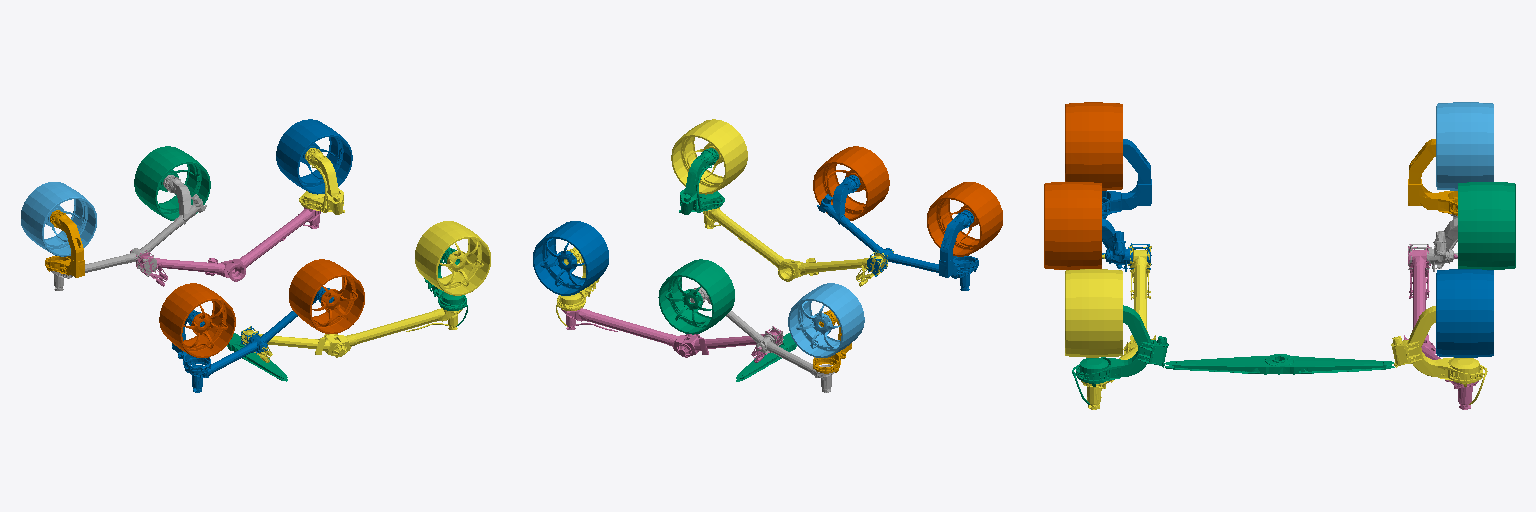
URDF robot description (Perseverance):
<?xml version="1.0" ?>
<!-- This file was generated automatically. [2021_08_18_14_10_08] -->
<!-- [Tool url: [email redacted]:CR/rst.git, branch: dev/working, commit_hash: 47e8686b, commit_time: 2021-08-16 19:00:50 -0700] -->

<robot name="Perseverance">
	<link name="ground"/>

	<link name="Body_Chassis">
		<inertial>
			<origin xyz="0.09002 0 -1.13338" rpy="0 -0 0"/>
			<mass value="0"/>
			<inertia ixx="0" ixy="0" ixz="0" iyy="0" iyz="0" izz="0"/>
		</inertial>
		<visual name="VisGeom_CHASSIS">
			<origin xyz="0.09002 0 -1.13338" rpy="0 -0 0"/>
			<geometry>
				<mesh filename="package://osr_description/meshes/CHASSIS.stl" scale="1 1 1"/>
			</geometry>
		</visual>
	</link>
	<joint name="chasis_joint" type="fixed">
		<origin xyz="0 0 0" rpy="0 -0 0"/>
		<parent link="ground"/>
		<child link="Body_Chassis"/>
	</joint>


	<!-- Rover Left Side Traction -->
	<link name="Body_Differential">
		<inertial>
			<origin xyz="0.142 0 0" rpy="0 -0 0"/>
			<mass value="0"/>
			<inertia ixx="0" ixy="0" ixz="0" iyy="0" iyz="0" izz="0"/>
		</inertial>
		<visual name="VisGeom_CenterDifferential">
			<origin xyz="0.142 0 0" rpy="0 0 0"/>
			<geometry>
				<mesh filename="package://osr_description/meshes/CenterDifferential.stl" scale="1 1 1"/>
			</geometry>
		</visual>
	</link>
	<joint name="CENTER_DIFFERENTIAL" type="revolute">
		<origin xyz="-0.05198 0 -1.13338" rpy="0 -0 0"/>
		<parent link="Body_Chassis"/>
		<child link="Body_Differential"/>
		<axis xyz="0 0 1"/>
		<limit lower="-1.79769e+308" upper="1.79769e+308" effort="1.79769e+308" velocity="1.79769e+308"/>
	</joint>

	<link name="Body_RockerLeft">
		<inertial>
			<origin xyz="-0.214 0.79959 -0.2405" rpy="0 -0 0"/>
			<mass value="0"/>
			<inertia ixx="0" ixy="0" ixz="0" iyy="0" iyz="0" izz="0"/>
		</inertial>
		<visual name="VisGeom_Left_Rocker">
			<origin xyz="-0.214 0.79959 -0.2405" rpy="0 0 0"/>
			<geometry>
				<mesh filename="package://osr_description/meshes/Left_Rocker.stl" scale="1 1 1"/>
			</geometry>
		</visual>
	</link>
	<joint name="LEFT_DIFFERENTIAL" type="revolute">
		<origin xyz="0.30402 -0.79959 -0.89288" rpy="0 -0 0"/>
		<parent link="Body_Chassis"/>
		<child link="Body_RockerLeft"/>
		<axis xyz="0 1 0"/>
		<limit lower="-1.79769e+308" upper="1.79769e+308" effort="1.79769e+308" velocity="1.79769e+308"/>
	</joint>

	<link name="Body_BogieLeft">
		<inertial>
			<origin xyz="0.54 0.91959 -0.4705" rpy="0 -0 0"/>
			<mass value="0"/>
			<inertia ixx="0" ixy="0" ixz="0" iyy="0" iyz="0" izz="0"/>
		</inertial>
		<visual name="VisGeom_Left_Bogie">
			<origin xyz="0.54 0.91959 -0.4705" rpy="0 0 0"/>
			<geometry>
				<mesh filename="package://osr_description/meshes/Left_Bogie.stl" scale="1 1 1"/>
			</geometry>
		</visual>
	</link>
	<joint name="LEFT_BOGIE" type="revolute">
		<origin xyz="-0.754 -0.12 0.23" rpy="0 -0 0"/>
		<parent link="Body_RockerLeft"/>
		<child link="Body_BogieLeft"/>
		<axis xyz="0 1 0"/>
		<limit lower="-1.79769e+308" upper="1.79769e+308" effort="1.79769e+308" velocity="1.79769e+308"/>
	</joint>

	<!-- Left Middle Wheel Assembly (Attached to Body_BogieLeft) -->
	<link name="Body_WheelLeftMiddle">
		<inertial>
			<origin xyz="0.09002 1.1845 -0.8705" rpy="0 -0 0"/>
			<mass value="0"/>
			<inertia ixx="0" ixy="0" ixz="0" iyy="0" iyz="0" izz="0"/>
		</inertial>
		<visual name="VisGeom_Wheel_LeftMiddle">
			<origin xyz="0.09002 1.1845 -0.8705" rpy="0 -0 0"/>
			<geometry>
				<mesh filename="package://osr_description/meshes/Wheel_LeftMiddle.stl" scale="1 1 1"/>
			</geometry>
		</visual>
	</link>
	<joint name="LM_DRIVE" type="revolute">
		<origin xyz="0.44998 -0.26491 0.4" rpy="0 -0 0"/>
		<parent link="Body_BogieLeft"/>
		<child link="Body_WheelLeftMiddle"/>
		<axis xyz="0 -1 0"/>
		<limit lower="-1.79769e+308" upper="1.79769e+308" effort="1.79769e+308" velocity="1.79769e+308"/>
	</joint>

	<link name="Frame_WHEEL_LF">
		<inertial>
			<origin xyz="0 0 0" rpy="0 -0 0"/>
			<mass value="0"/>
			<inertia ixx="0" ixy="0" ixz="0" iyy="0" iyz="0" izz="0"/>
		</inertial>
	</link>
	<joint name="Joint_for_Frame_WHEEL_LF" type="fixed">
		<origin xyz="0 0 0" rpy="0 -0 0"/>
		<parent link="Body_WheelLeftFront"/>
		<child link="Frame_WHEEL_LF"/>
	</joint>

	<link name="Frame_WHEEL_LM">
		<inertial>
			<origin xyz="0 0 0" rpy="0 -0 0"/>
			<mass value="0"/>
			<inertia ixx="0" ixy="0" ixz="0" iyy="0" iyz="0" izz="0"/>
		</inertial>
	</link>
	<joint name="Joint_for_Frame_WHEEL_LM" type="fixed">
		<origin xyz="0 0 0" rpy="0 -0 0"/>
		<parent link="Body_WheelLeftMiddle"/>
		<child link="Frame_WHEEL_LM"/>
	</joint>

	<link name="Frame_WHEEL_LR">
		<inertial>
			<origin xyz="0 0 0" rpy="0 -0 0"/>
			<mass value="0"/>
			<inertia ixx="0" ixy="0" ixz="0" iyy="0" iyz="0" izz="0"/>
		</inertial>
	</link>
	<joint name="Joint_for_Frame_WHEEL_LR" type="fixed">
		<origin xyz="0 0 0" rpy="0 -0 0"/>
		<parent link="Body_WheelLeftRear"/>
		<child link="Frame_WHEEL_LR"/>
	</joint>

	<link name="Frame_STEER_LR">
		<inertial>
			<origin xyz="0 0 0" rpy="0 -0 0"/>
			<mass value="0"/>
			<inertia ixx="0" ixy="0" ixz="0" iyy="0" iyz="0" izz="0"/>
		</inertial>
	</link>
	<joint name="Joint_for_Frame_STEER_LR" type="fixed">
		<origin xyz="0 0 0" rpy="0 -0 0"/>
		<parent link="Body_SteerLeftRear"/>
		<child link="Frame_STEER_LR"/>
	</joint>

	<!-- Left Front Steering Wheel Assembly (Attached to Body_RockerLeft) -->
	<link name="Body_SteerLeftFront">
		<inertial>
			<origin xyz="-1.095 1.0625 -0.8705" rpy="0 -0 0"/>
			<mass value="0"/>
			<inertia ixx="0" ixy="0" ixz="0" iyy="0" iyz="0" izz="0"/>
		</inertial>
		<visual name="VisGeom_Steer_LeftFront">
			<origin xyz="-1.095 1.0625 -0.8705" rpy="0 -0 0"/>
			<geometry>
				<mesh filename="package://osr_description/meshes/Steer_LeftFront.stl" scale="1 1 1"/>
			</geometry>
		</visual>
	</link>
	<joint name="LF_STEER" type="revolute">
		<origin xyz="0.881 -0.26291 0.63" rpy="0 -0 0"/>
		<parent link="Body_RockerLeft"/>
		<child link="Body_SteerLeftFront"/>
		<axis xyz="0 0 1"/>
		<limit lower="-1.79769e+308" upper="1.79769e+308" effort="1.79769e+308" velocity="1.79769e+308"/>
	</joint>	

	<link name="Body_WheelLeftFront">
		<inertial>
			<origin xyz="-1.095 1.0625 -0.8705" rpy="0 -0 0"/>
			<mass value="0"/>
			<inertia ixx="0" ixy="0" ixz="0" iyy="0" iyz="0" izz="0"/>
		</inertial>
		<visual name="VisGeom_Wheel_LeftFront">
			<origin xyz="-1.095 1.0625 -0.8705" rpy="0 -0 0"/>
			<geometry>
				<mesh filename="package://osr_description/meshes/Wheel_LeftFront.stl" scale="1 1 1"/>
			</geometry>
		</visual>
	</link>
	<joint name="LF_DRIVE" type="revolute">
		<origin xyz="0 0 0" rpy="0 -0 0"/>
		<parent link="Body_SteerLeftFront"/>
		<child link="Body_WheelLeftFront"/>
		<axis xyz="0 -1 0"/>
		<limit lower="-1.79769e+308" upper="1.79769e+308" effort="1.79769e+308" velocity="1.79769e+308"/>
	</joint>

	<!-- Left Rear Steer Wheel Assembly (Attached to Body_BogieLeft) -->
	<link name="Body_SteerLeftRear">
		<inertial>
			<origin xyz="1.165 1.0625 -0.8705" rpy="0 -0 0"/>
			<mass value="0"/>
			<inertia ixx="0" ixy="0" ixz="0" iyy="0" iyz="0" izz="0"/>
		</inertial>
		<visual name="VisGeom_Steer_LeftRear">
			<origin xyz="1.165 1.0625 -0.8705" rpy="0 -0 0"/>
			<geometry>
				<mesh filename="package://osr_description/meshes/Steer_LeftRear.stl" scale="1 1 1"/>
			</geometry>
		</visual>
	</link>
	<joint name="LR_STEER" type="revolute">
		<origin xyz="-0.625 -0.14291 0.4" rpy="0 -0 0"/>
		<parent link="Body_BogieLeft"/>
		<child link="Body_SteerLeftRear"/>
		<axis xyz="0 0 1"/>
		<limit lower="-1.79769e+308" upper="1.79769e+308" effort="1.79769e+308" velocity="1.79769e+308"/>
	</joint>

	<link name="Body_WheelLeftRear">
		<inertial>
			<origin xyz="1.165 1.0625 -0.8705" rpy="0 -0 0"/>
			<mass value="0"/>
			<inertia ixx="0" ixy="0" ixz="0" iyy="0" iyz="0" izz="0"/>
		</inertial>
		<visual name="VisGeom_Wheel_LeftRear">
			<origin xyz="1.165 1.0625 -0.8705" rpy="0 -0 0"/>
			<geometry>
				<mesh filename="package://osr_description/meshes/Wheel_LeftRear.stl" scale="1 1 1"/>
			</geometry>
		</visual>
	</link>
	<joint name="LR_DRIVE" type="revolute">
		<origin xyz="0 0 0" rpy="0 -0 0"/>
		<parent link="Body_SteerLeftRear"/>
		<child link="Body_WheelLeftRear"/>
		<axis xyz="0 -1 0"/>
		<limit lower="-1.79769e+308" upper="1.79769e+308" effort="1.79769e+308" velocity="1.79769e+308"/>
	</joint>

	<!-- Rover Right Side Traction -->
	<link name="Body_RockerRight">
		<inertial>
			<origin xyz="-0.214 -0.79959 -0.2405" rpy="0 -0 0"/>
			<mass value="0"/>
			<inertia ixx="0" ixy="0" ixz="0" iyy="0" iyz="0" izz="0"/>
		</inertial>
		<visual name="VisGeom_Right_Rocker">
			<origin xyz="-0.214 -0.79959 -0.2405" rpy="0 -0 0"/>
			<geometry>
				<mesh filename="package://osr_description/meshes/Right_Rocker.stl" scale="1 1 1"/>
			</geometry>
		</visual>
	</link>
	<joint name="RIGHT_DIFFERENTIAL" type="revolute">
		<origin xyz="0.30402 0.79959 -0.89288" rpy="0 -0 0"/>
		<parent link="Body_Chassis"/>
		<child link="Body_RockerRight"/>
		<axis xyz="0 1 0"/>
		<limit lower="-1.79769e+308" upper="1.79769e+308" effort="1.79769e+308" velocity="1.79769e+308"/>
	</joint>

	<link name="Body_BogieRight">
		<inertial>
			<origin xyz="0.54 -0.91959 -0.4705" rpy="0 -0 0"/>
			<mass value="0"/>
			<inertia ixx="0" ixy="0" ixz="0" iyy="0" iyz="0" izz="0"/>
		</inertial>
		<visual name="VisGeom_Right_Bogie">
			<origin xyz="0.54 -0.91959 -0.4705" rpy="0 -0 0"/>
			<geometry>
				<mesh filename="package://osr_description/meshes/Right_Bogie.stl" scale="1 1 1"/>
			</geometry>
		</visual>
	</link>
	<joint name="RIGHT_BOGIE" type="revolute">
		<origin xyz="-0.754 0.12 0.23" rpy="0 -0 0"/>
		<parent link="Body_RockerRight"/>
		<child link="Body_BogieRight"/>
		<axis xyz="0 1 0"/>
		<limit lower="-1.79769e+308" upper="1.79769e+308" effort="1.79769e+308" velocity="1.79769e+308"/>
	</joint>

	<link name="Body_SteerRightRear">
		<inertial>
			<origin xyz="1.165 -1.0625 -0.8705" rpy="0 -0 0"/>
			<mass value="0"/>
			<inertia ixx="0" ixy="0" ixz="0" iyy="0" iyz="0" izz="0"/>
		</inertial>
		<visual name="VisGeom_Steer_RightRear">
			<origin xyz="1.165 -1.0625 -0.8705" rpy="0 -0 0"/>
			<geometry>
				<mesh filename="package://osr_description/meshes/Steer_RightRear.stl" scale="1 1 1"/>
			</geometry>
		</visual>
	</link>
	<joint name="RR_STEER" type="revolute">
		<origin xyz="-0.625 0.14291 0.4" rpy="0 -0 0"/>
		<parent link="Body_BogieRight"/>
		<child link="Body_SteerRightRear"/>
		<axis xyz="0 0 1"/>
		<limit lower="-1.79769e+308" upper="1.79769e+308" effort="1.79769e+308" velocity="1.79769e+308"/>
	</joint>

	<link name="Body_WheelRightRear">
		<inertial>
			<origin xyz="1.165 -1.0625 -0.8705" rpy="0 -0 0"/>
			<mass value="0"/>
			<inertia ixx="0" ixy="0" ixz="0" iyy="0" iyz="0" izz="0"/>
		</inertial>
		<visual name="VisGeom_Wheel_RightRear">
			<origin xyz="1.165 -1.0625 -0.8705" rpy="0 -0 0"/>
			<geometry>
				<mesh filename="package://osr_description/meshes/Wheel_RightRear.stl" scale="1 1 1"/>
			</geometry>
		</visual>
	</link>
	<joint name="RR_DRIVE" type="revolute">
		<origin xyz="0 0 0" rpy="0 -0 0"/>
		<parent link="Body_SteerRightRear"/>
		<child link="Body_WheelRightRear"/>
		<axis xyz="0 -1 0"/>
		<limit lower="-1.79769e+308" upper="1.79769e+308" effort="1.79769e+308" velocity="1.79769e+308"/>
	</joint>

	<link name="Body_WheelRightMiddle">
		<inertial>
			<origin xyz="0.09002 -1.1845 -0.8705" rpy="0 -0 0"/>
			<mass value="0"/>
			<inertia ixx="0" ixy="0" ixz="0" iyy="0" iyz="0" izz="0"/>
		</inertial>
		<visual name="VisGeom_Wheel_RightMiddle">
			<origin xyz="0.09002 -1.1845 -0.8705" rpy="0 -0 0"/>
			<geometry>
				<mesh filename="package://osr_description/meshes/Wheel_RightMiddle.stl" scale="1 1 1"/>
			</geometry>
		</visual>
	</link>
	<joint name="RM_DRIVE" type="revolute">
		<origin xyz="0.44998 0.26491 0.4" rpy="0 -0 0"/>
		<parent link="Body_BogieRight"/>
		<child link="Body_WheelRightMiddle"/>
		<axis xyz="0 -1 0"/>
		<limit lower="-1.79769e+308" upper="1.79769e+308" effort="1.79769e+308" velocity="1.79769e+308"/>
	</joint>

	<link name="Body_SteerRightFront">
		<inertial>
			<origin xyz="-1.095 -1.0625 -0.8705" rpy="0 -0 0"/>
			<mass value="0"/>
			<inertia ixx="0" ixy="0" ixz="0" iyy="0" iyz="0" izz="0"/>
		</inertial>
		<visual name="VisGeom_Steer_RightFront">
			<origin xyz="-1.095 -1.0625 -0.8705" rpy="0 -0 0"/>
			<geometry>
				<mesh filename="package://osr_description/meshes/Steer_RightFront.stl" scale="1 1 1"/>
			</geometry>
		</visual>
	</link>
	<joint name="RF_STEER" type="revolute">
		<origin xyz="0.881 0.26291 0.63" rpy="0 -0 0"/>
		<parent link="Body_RockerRight"/>
		<child link="Body_SteerRightFront"/>
		<axis xyz="0 0 1"/>
		<limit lower="-1.79769e+308" upper="1.79769e+308" effort="1.79769e+308" velocity="1.79769e+308"/>
	</joint>

	<link name="Body_WheelRightFront">
		<inertial>
			<origin xyz="-1.095 -1.0625 -0.8705" rpy="0 -0 0"/>
			<mass value="0"/>
			<inertia ixx="0" ixy="0" ixz="0" iyy="0" iyz="0" izz="0"/>
		</inertial>
		<visual name="VisGeom_Wheel_RightFront">
			<origin xyz="-1.095 -1.0625 -0.8705" rpy="0 -0 0"/>
			<geometry>
				<mesh filename="package://osr_description/meshes/Wheel_RightFront.stl" scale="1 1 1"/>
			</geometry>
		</visual>
	</link>
	<joint name="RF_DRIVE" type="revolute">
		<origin xyz="0 0 0" rpy="0 -0 0"/>
		<parent link="Body_SteerRightFront"/>
		<child link="Body_WheelRightFront"/>
		<axis xyz="0 -1 0"/>
		<limit lower="-1.79769e+308" upper="1.79769e+308" effort="1.79769e+308" velocity="1.79769e+308"/>
	</joint>

</robot>

--- Facts derived from the render (not from the file) ---
Views: 3 orthographic renders of the robot side by side, from view 1: azimuth 30°, elevation 25°; view 2: azimuth 150°, elevation 25°; view 3: azimuth 270°, elevation 25°.
Model Perseverance with 21 links and 20 joints (15 revolute, 5 fixed), rooted at ground, posed all joints at 0.
Links seen in each view (by area): view 1: Body_WheelLeftFront, Body_WheelLeftRear, Body_WheelLeftMiddle, Body_WheelRightRear, Body_WheelRightFront, Body_WheelRightMiddle, Body_RockerLeft, Body_RockerRight, Body_BogieRight, Body_SteerRightFront, Body_BogieLeft, Body_SteerRightRear (+3 smaller); view 2: Body_WheelRightMiddle, Body_WheelRightRear, Body_WheelRightFront, Body_WheelLeftRear, Body_WheelLeftFront, Body_WheelLeftMiddle, Body_RockerRight, Body_RockerLeft, Body_BogieLeft, Body_SteerLeftFront, Body_BogieRight, Body_SteerLeftRear (+3 smaller); view 3: Body_WheelRightFront, Body_WheelLeftFront, Body_WheelLeftMiddle, Body_WheelRightMiddle, Body_WheelRightRear, Body_WheelLeftRear, Body_Differential, Body_SteerLeftFront, Body_SteerRightFront, Body_RockerRight, Body_RockerLeft, Body_SteerLeftRear (+3 smaller).
Link boxes in pixels (left/top/right/bottom): Body_WheelLeftFront: left=415, top=221, right=490, bottom=295; Body_WheelLeftRear: left=159, top=283, right=235, bottom=357; Body_WheelLeftMiddle: left=289, top=259, right=364, bottom=333; Body_WheelRightRear: left=21, top=182, right=96, bottom=256; Body_WheelRightFront: left=276, top=119, right=352, bottom=194; Body_WheelRightMiddle: left=134, top=146, right=210, bottom=220; Body_RockerLeft: left=241, top=308, right=462, bottom=362; Body_RockerRight: left=130, top=207, right=320, bottom=286; Body_BogieRight: left=51, top=175, right=206, bottom=290; Body_SteerRightFront: left=299, top=148, right=344, bottom=214; Body_BogieLeft: left=189, top=287, right=333, bottom=392; Body_SteerRightRear: left=45, top=210, right=84, bottom=277; Body_WheelRightMiddle: left=658, top=259, right=734, bottom=334; Body_WheelRightRear: left=788, top=283, right=864, bottom=357; Body_WheelRightFront: left=533, top=221, right=608, bottom=295; Body_WheelLeftRear: left=927, top=182, right=1002, bottom=256; Body_WheelLeftFront: left=671, top=119, right=747, bottom=194; Body_WheelLeftMiddle: left=813, top=146, right=889, bottom=220; Body_RockerRight: left=561, top=308, right=782, bottom=362; Body_RockerLeft: left=703, top=207, right=893, bottom=286; Body_BogieLeft: left=817, top=175, right=972, bottom=290; Body_SteerLeftFront: left=679, top=148, right=724, bottom=214; Body_BogieRight: left=690, top=287, right=834, bottom=392; Body_SteerLeftRear: left=939, top=210, right=978, bottom=277; Body_WheelRightFront: left=1436, top=269, right=1493, bottom=357; Body_WheelLeftFront: left=1065, top=269, right=1122, bottom=357; Body_WheelLeftMiddle: left=1044, top=182, right=1101, bottom=269; Body_WheelRightMiddle: left=1458, top=182, right=1515, bottom=269; Body_WheelRightRear: left=1436, top=102, right=1493, bottom=190; Body_WheelLeftRear: left=1065, top=102, right=1122, bottom=190; Body_Differential: left=1165, top=354, right=1394, bottom=374; Body_SteerLeftFront: left=1072, top=305, right=1168, bottom=404; Body_SteerRightFront: left=1391, top=306, right=1487, bottom=404; Body_RockerRight: left=1404, top=244, right=1478, bottom=409; Body_RockerLeft: left=1081, top=245, right=1155, bottom=409; Body_SteerLeftRear: left=1102, top=139, right=1151, bottom=215.
Size in the robot's own frame: 2.77 by 2.7 by 1.19 metres.
15 mesh visuals loaded from 16 distinct referenced files (15 binary STL); not drawn: 1 (reference not matched to a file when rendering).